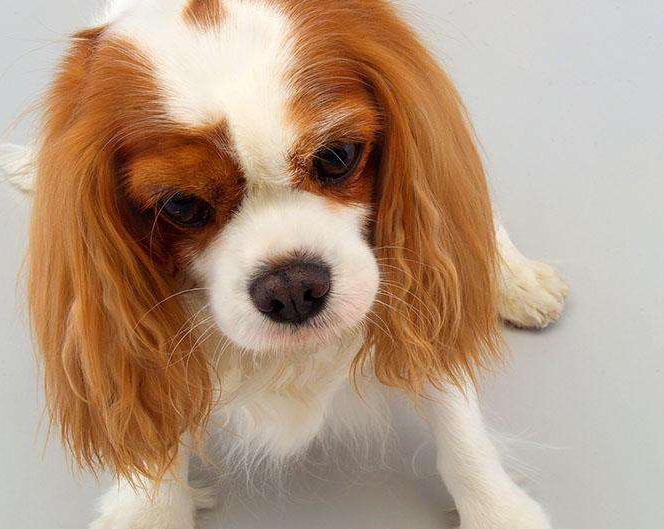nose: (246, 253, 341, 330)
